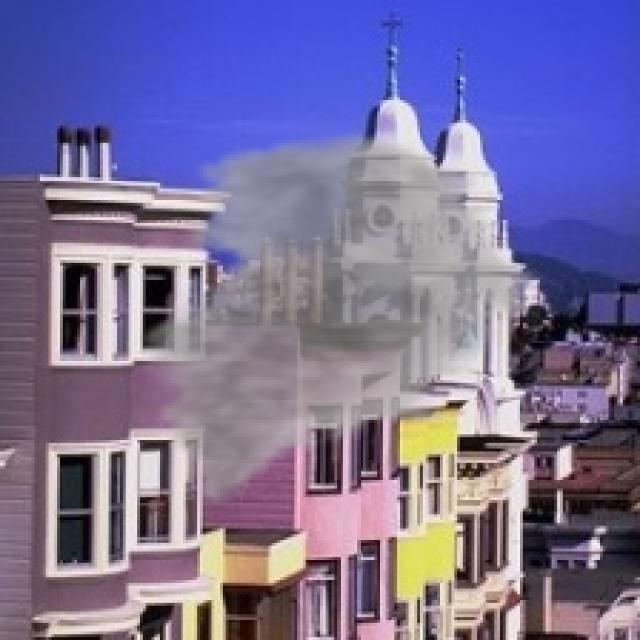smoke: (128, 128, 548, 508)
